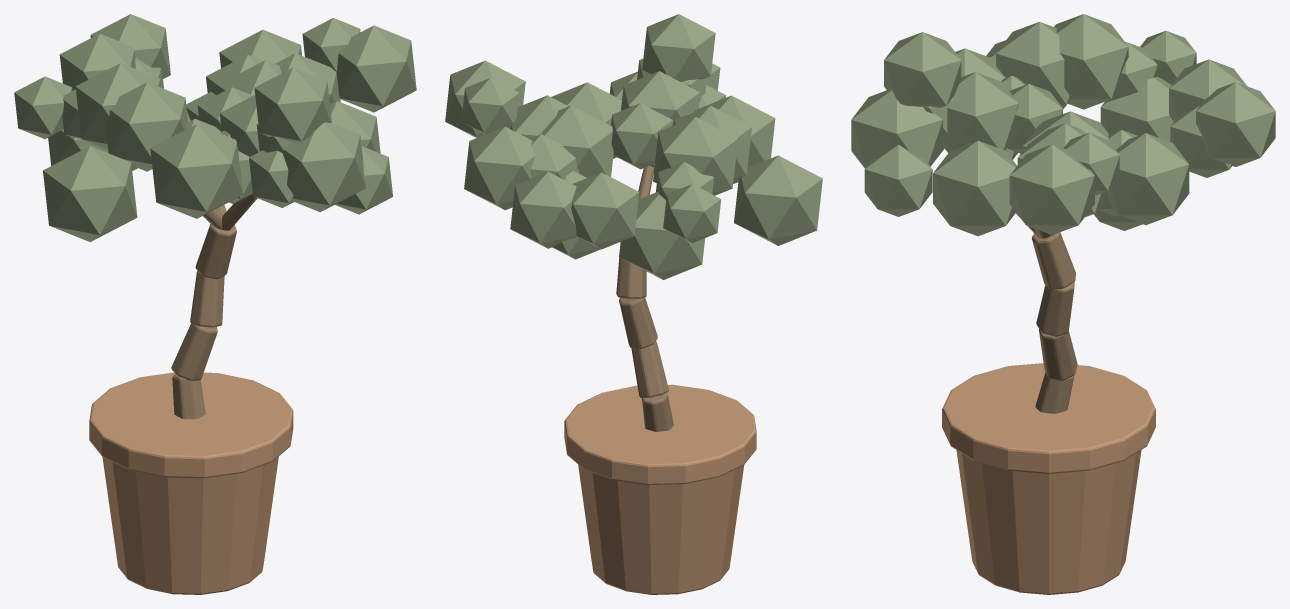
The model's file is Planter.fbx.
3 renders of one model, left to right at view 1: azimuth 30°, elevation 25°; view 2: azimuth 150°, elevation 25°; view 3: azimuth 270°, elevation 25°, orthographic. The views are drawn at different scales.
Parts seen in each view (by area): view 1: Planter; view 2: Planter; view 3: Planter.
Part boxes in pixels (box(x1,y1,x2,y2)): Planter: box(14, 14, 416, 594); Planter: box(445, 14, 822, 594); Planter: box(851, 14, 1275, 594).
Size of the model in its own units: 1.77 by 2.4 by 1.67.
